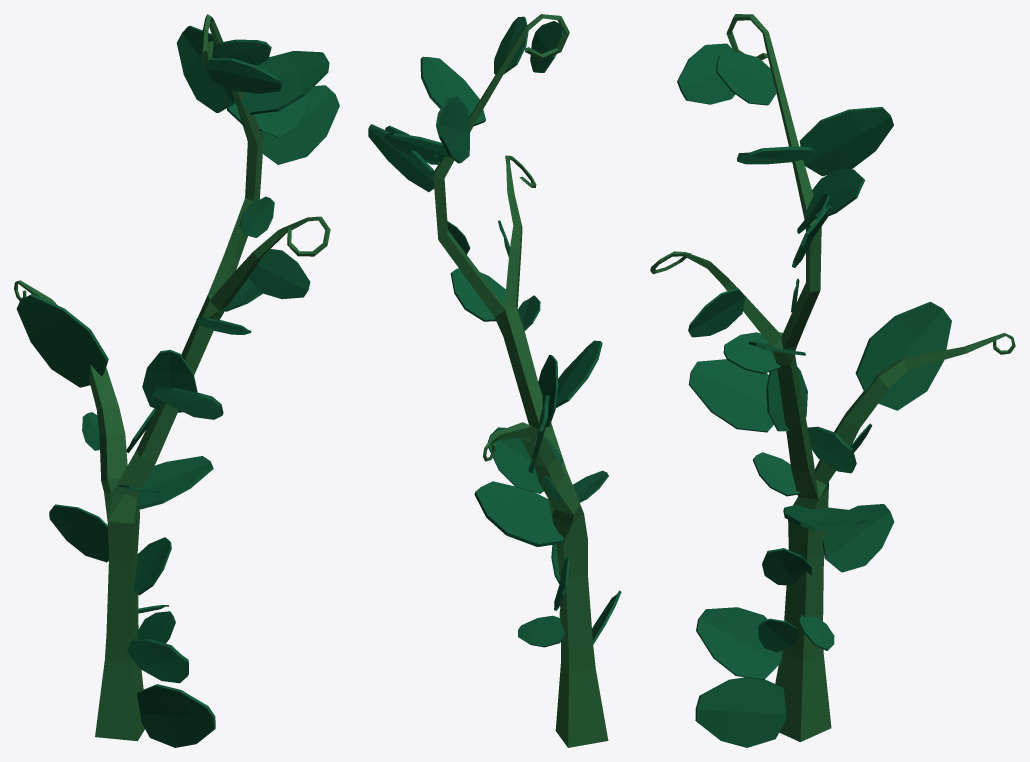
The model's file is 1-2_pea.glb.
3 views of the same model, side by side, from view 1: azimuth 30°, elevation 25°; view 2: azimuth 150°, elevation 25°; view 3: azimuth 270°, elevation 25° (orthographic). The views are drawn at different scales.
Visible parts, largest first — view 1: pea.001; view 2: pea.001; view 3: pea.001.
Boxes of the visible parts, <box> form: pea.001: <box>14,14,339,747</box>; pea.001: <box>368,14,621,747</box>; pea.001: <box>650,14,1015,747</box>.
Bounding box in the file's own units: 0.3158 × 0.8626 × 0.3807.
